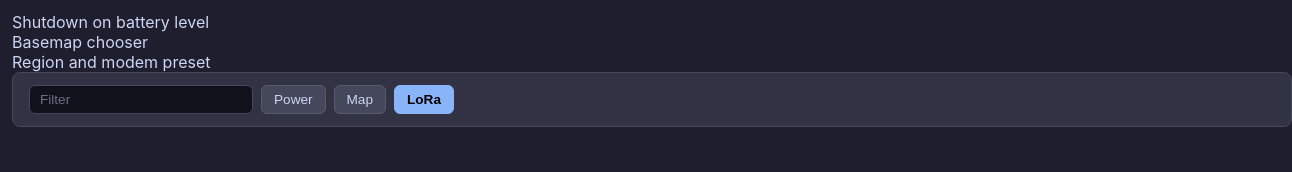
Test case: SectionNav filter › matches a keyword that appears nowhere on screen
The width and height of the screenshot is (1292, 172).
Type "tiles" into the search field at (141, 100), box [29,85,253,114]
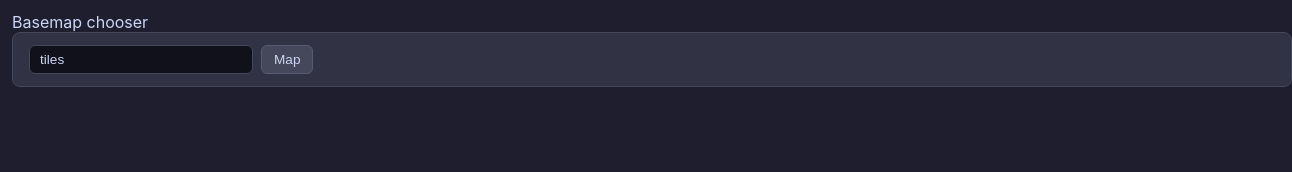
Check: the buttons read "Map", in this order, box [261,45,314,74]
